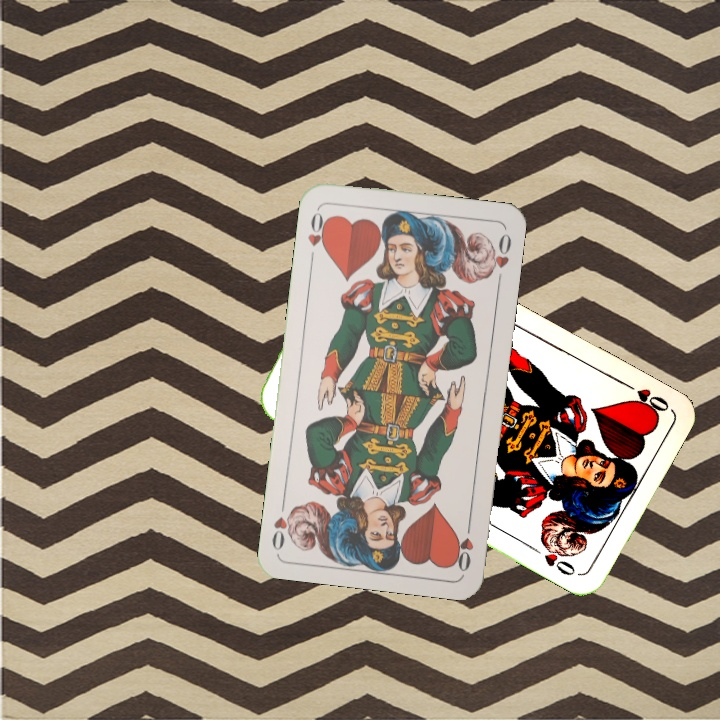HO: (619, 377, 672, 419), (304, 205, 332, 264), (450, 515, 476, 574)
